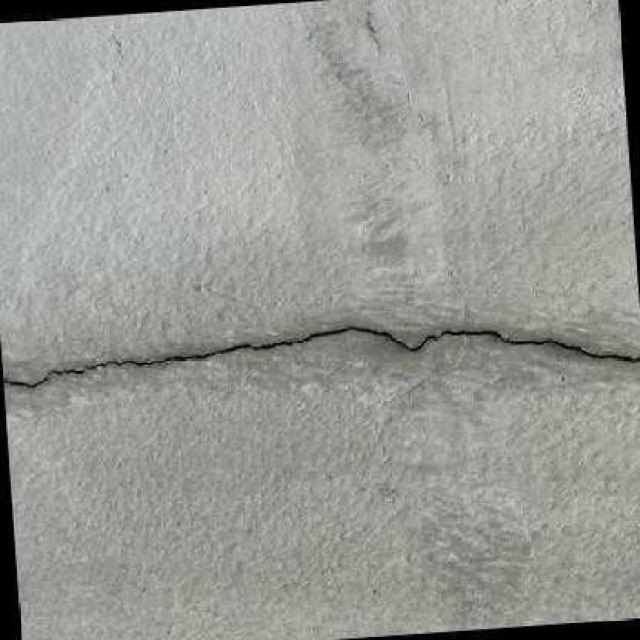D00: (3, 325, 640, 386)
